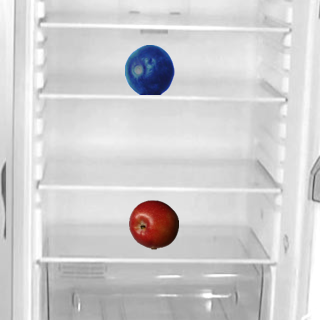Apple Braeburn: (128, 199, 178, 249)
Huckleberry: (124, 44, 174, 94)
